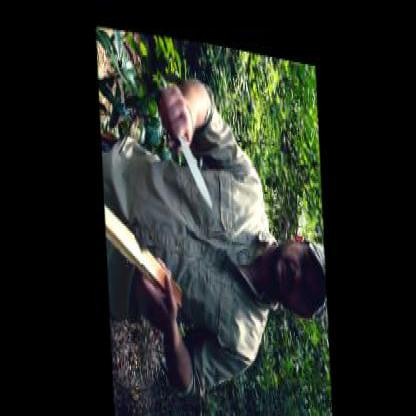knife: (162, 92, 215, 207)
